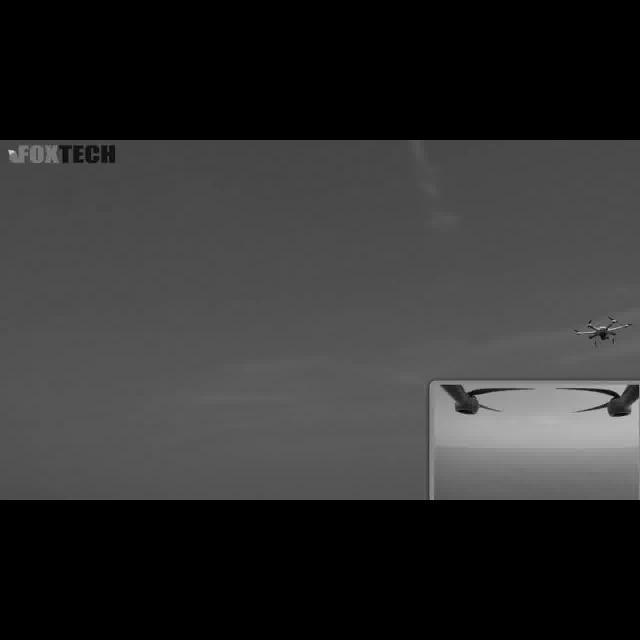Drons: (568, 309, 638, 353)
